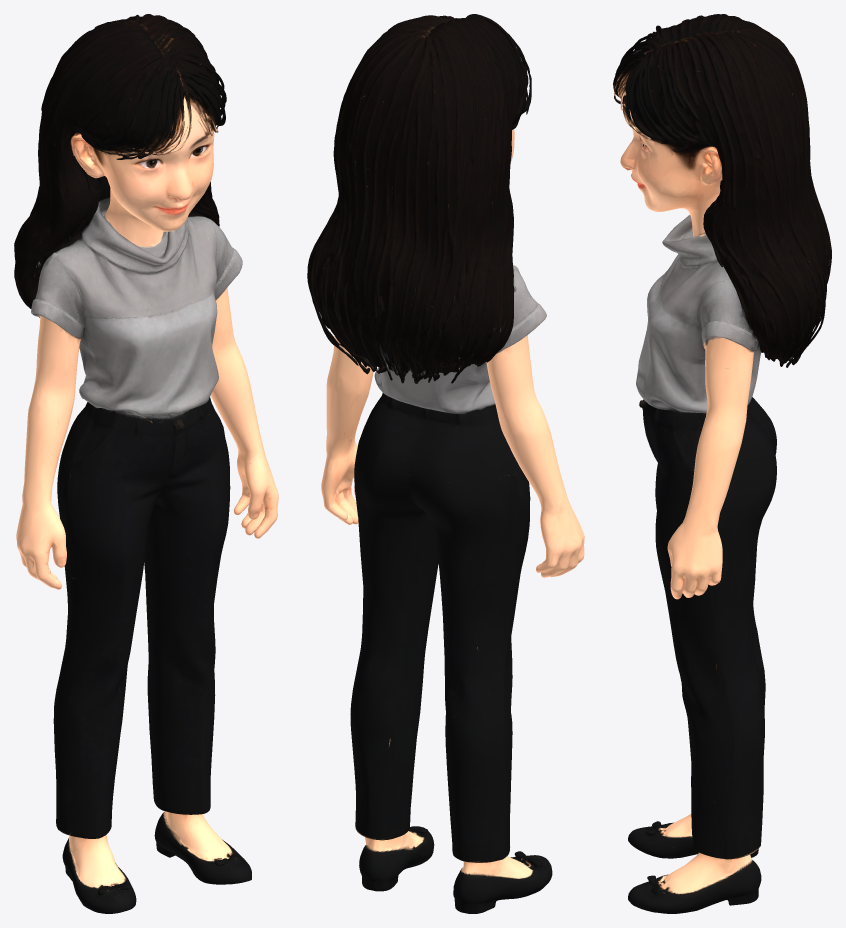
File: jo-mijin.glb
The picture shows the model from 3 angles, left to right: view 1: azimuth 30°, elevation 25°; view 2: azimuth 150°, elevation 25°; view 3: azimuth 270°, elevation 25°; orthographic projection.
Bounding box in the file's own units: 0.5912 × 1.9 × 0.4426.
1 material, 1 textured.
